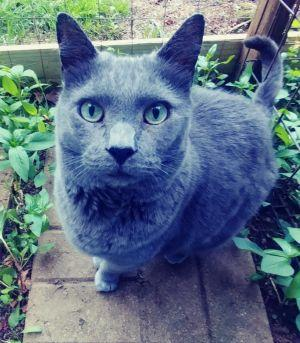rblue: (31, 4, 222, 211)
